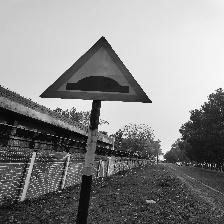Speed-breaker: (43, 41, 146, 101)
